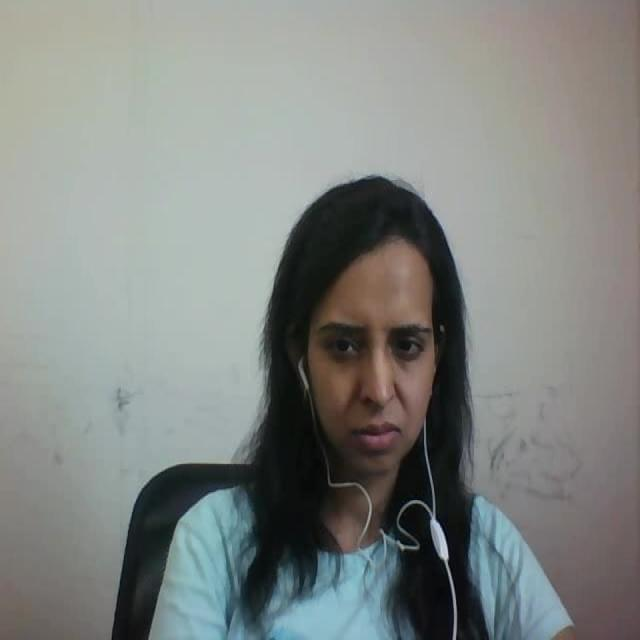Engaged: (254, 130, 466, 488)
